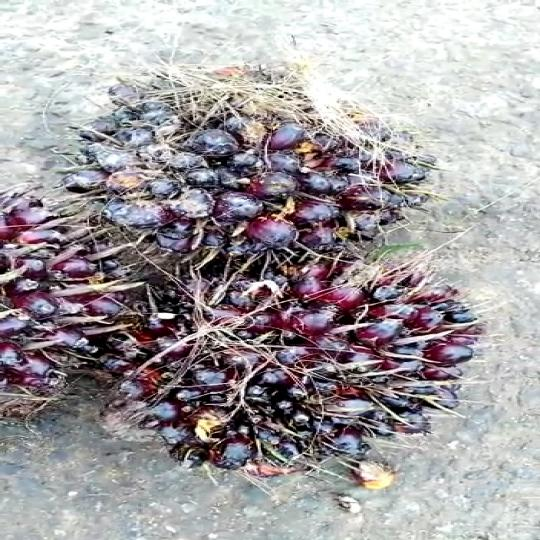kurang masak: (113, 254, 474, 492), (47, 55, 430, 260)
